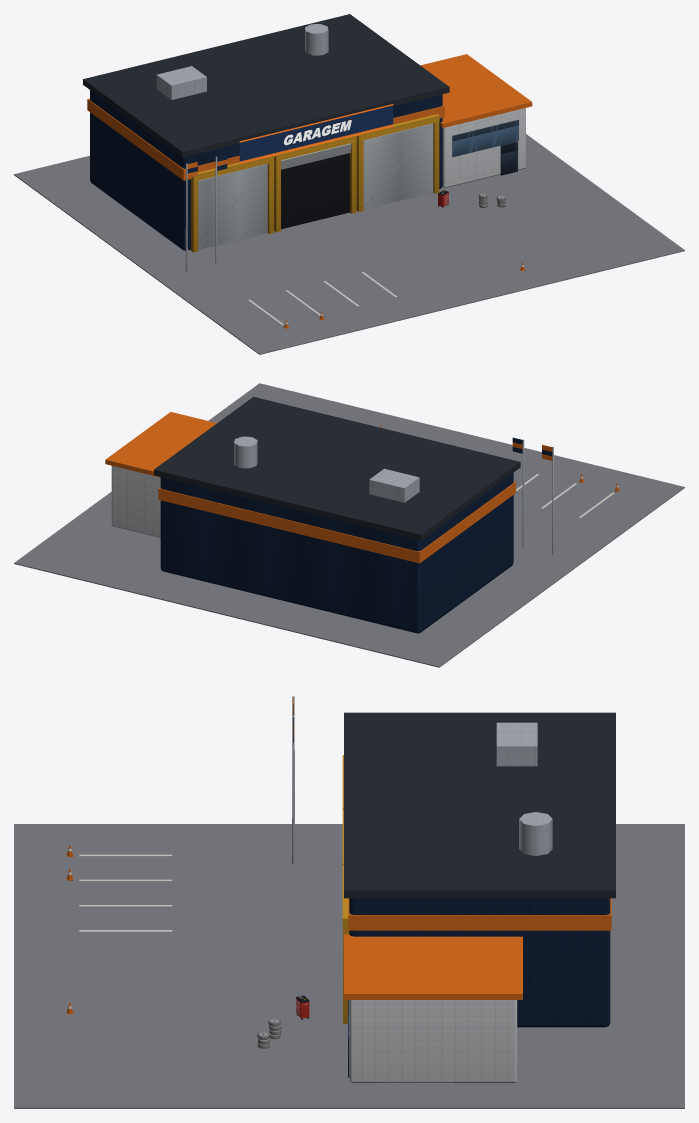
Rendered from garagem_da_equipe.glb.
3 views of the same model, one above another, from view 1: azimuth 30°, elevation 25°; view 2: azimuth 150°, elevation 25°; view 3: azimuth 270°, elevation 25° (orthographic). The views are drawn at different scales.
Parts seen in each view (by area): view 1: garagem_da_equipe_liso, garagem_da_equipe; view 2: garagem_da_equipe_liso, garagem_da_equipe; view 3: garagem_da_equipe_liso, garagem_da_equipe.
Boxes of the visible parts, bbox=[...] form: garagem_da_equipe_liso: bbox=[14, 14, 684, 354]; garagem_da_equipe: bbox=[90, 24, 525, 272]; garagem_da_equipe_liso: bbox=[14, 383, 684, 667]; garagem_da_equipe: bbox=[111, 436, 554, 633]; garagem_da_equipe_liso: bbox=[14, 712, 684, 1108]; garagem_da_equipe: bbox=[257, 696, 610, 1082].
Bounding box in the file's own units: 36 × 10.37 × 36.
8 materials, 6 textured.
